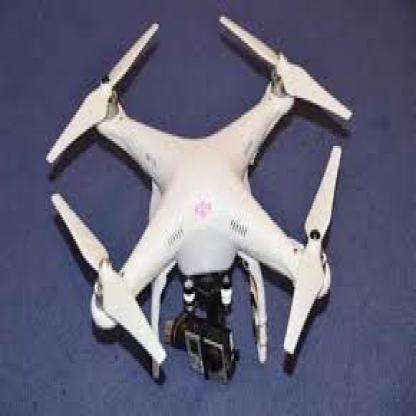UAS: (45, 14, 354, 383)
